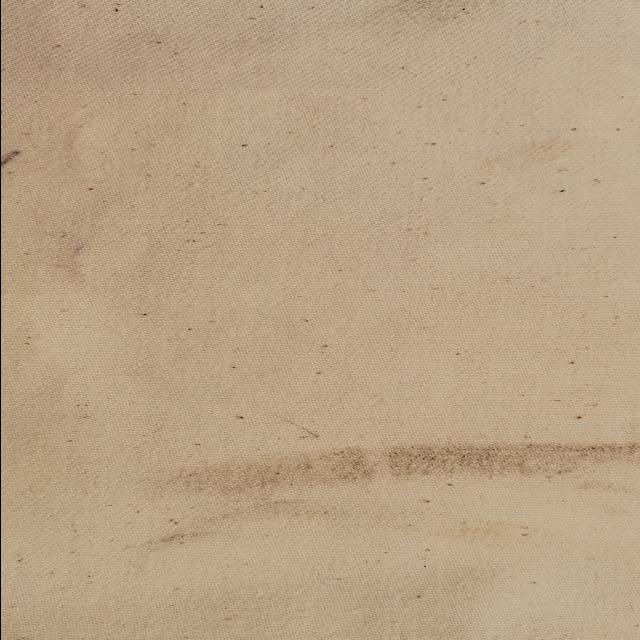taaaches: (122, 402, 640, 557), (0, 145, 33, 194)
